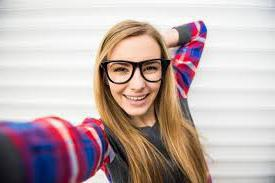face: (108, 34, 163, 116)
